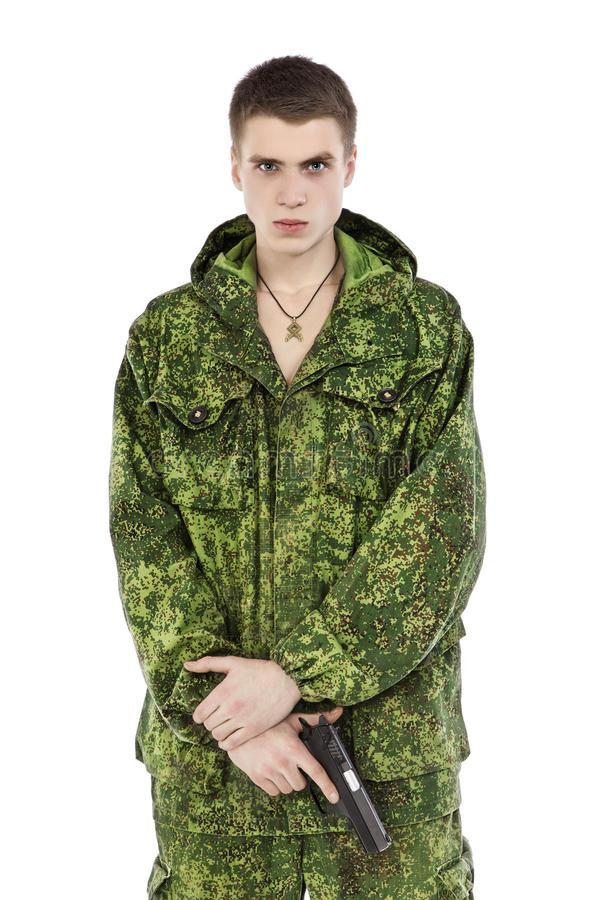criminal: (104, 50, 490, 900)
weapon: (280, 706, 394, 861)
